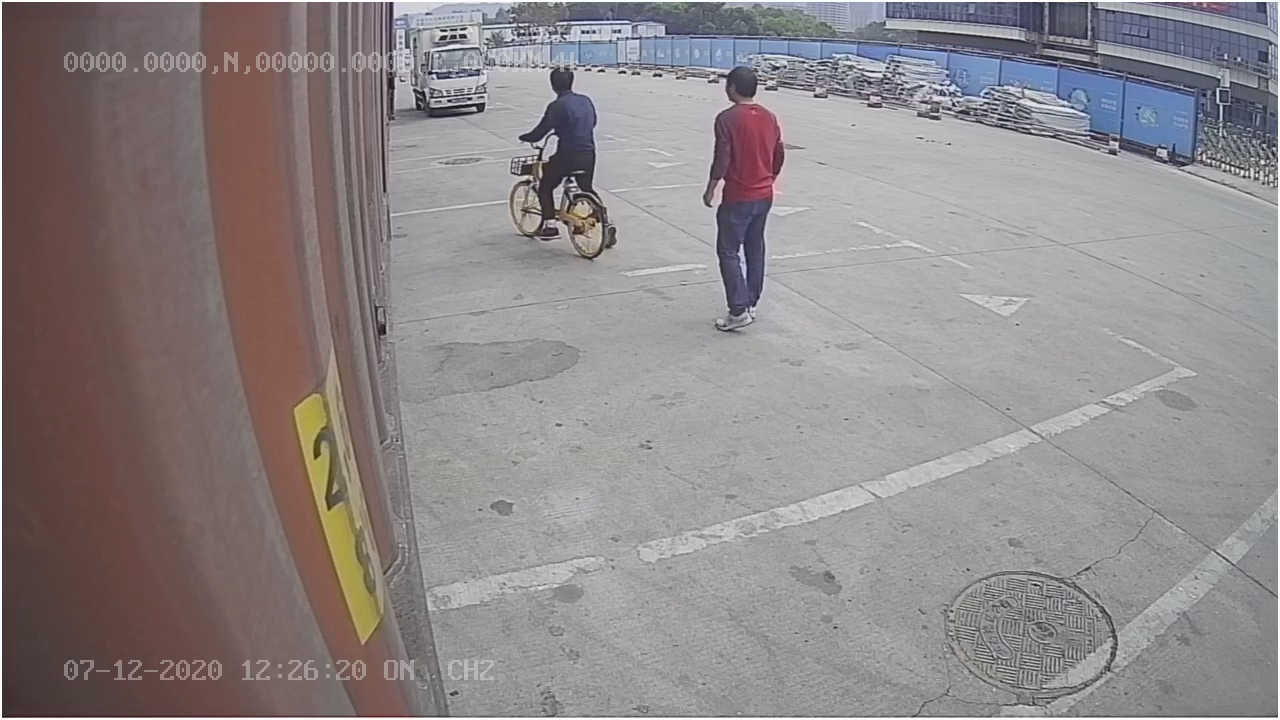person: (698, 65, 788, 334)
